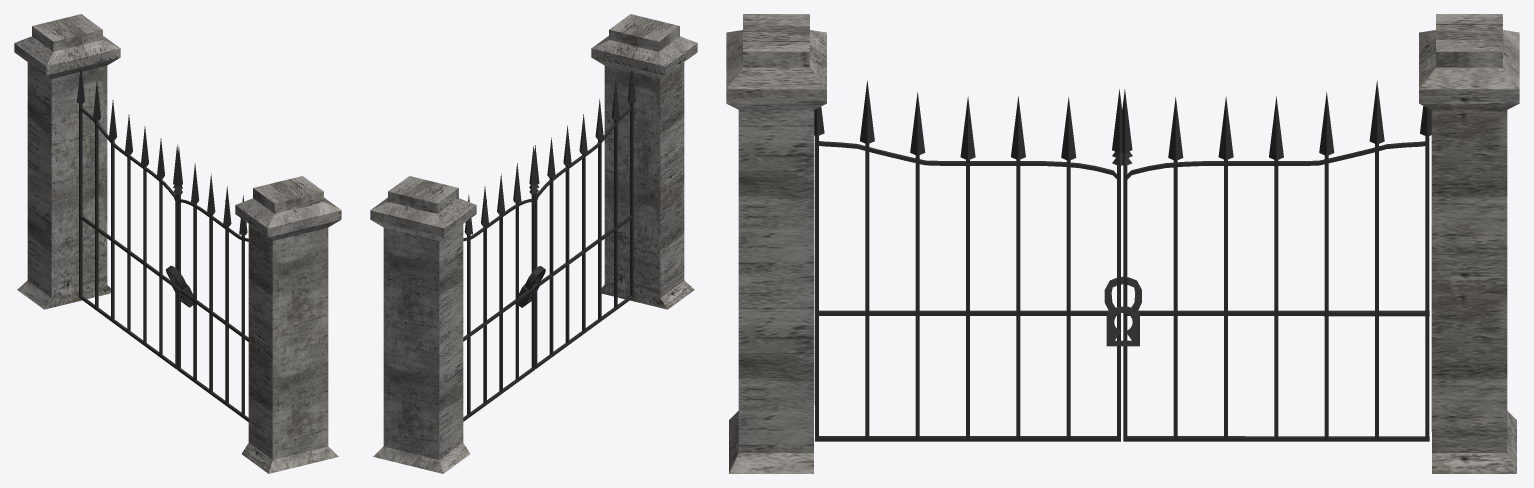
The model's file is GYGate.fbx.
The picture shows the model from 3 angles, left to right: view 1: azimuth 30°, elevation 25°; view 2: azimuth 150°, elevation 25°; view 3: azimuth 270°, elevation 25°; orthographic projection. The views are drawn at different scales.
Parts seen in each view (by area): view 1: pasted__polySurface21; view 2: pasted__polySurface21; view 3: pasted__polySurface21.
Part boxes in pixels (bbox=[...]): pasted__polySurface21: bbox=[14, 14, 341, 473]; pasted__polySurface21: bbox=[370, 14, 697, 473]; pasted__polySurface21: bbox=[726, 14, 1519, 473].
Size of the model in its own units: 1.33 by 4.54 by 7.88.
4 materials, 2 textured.
